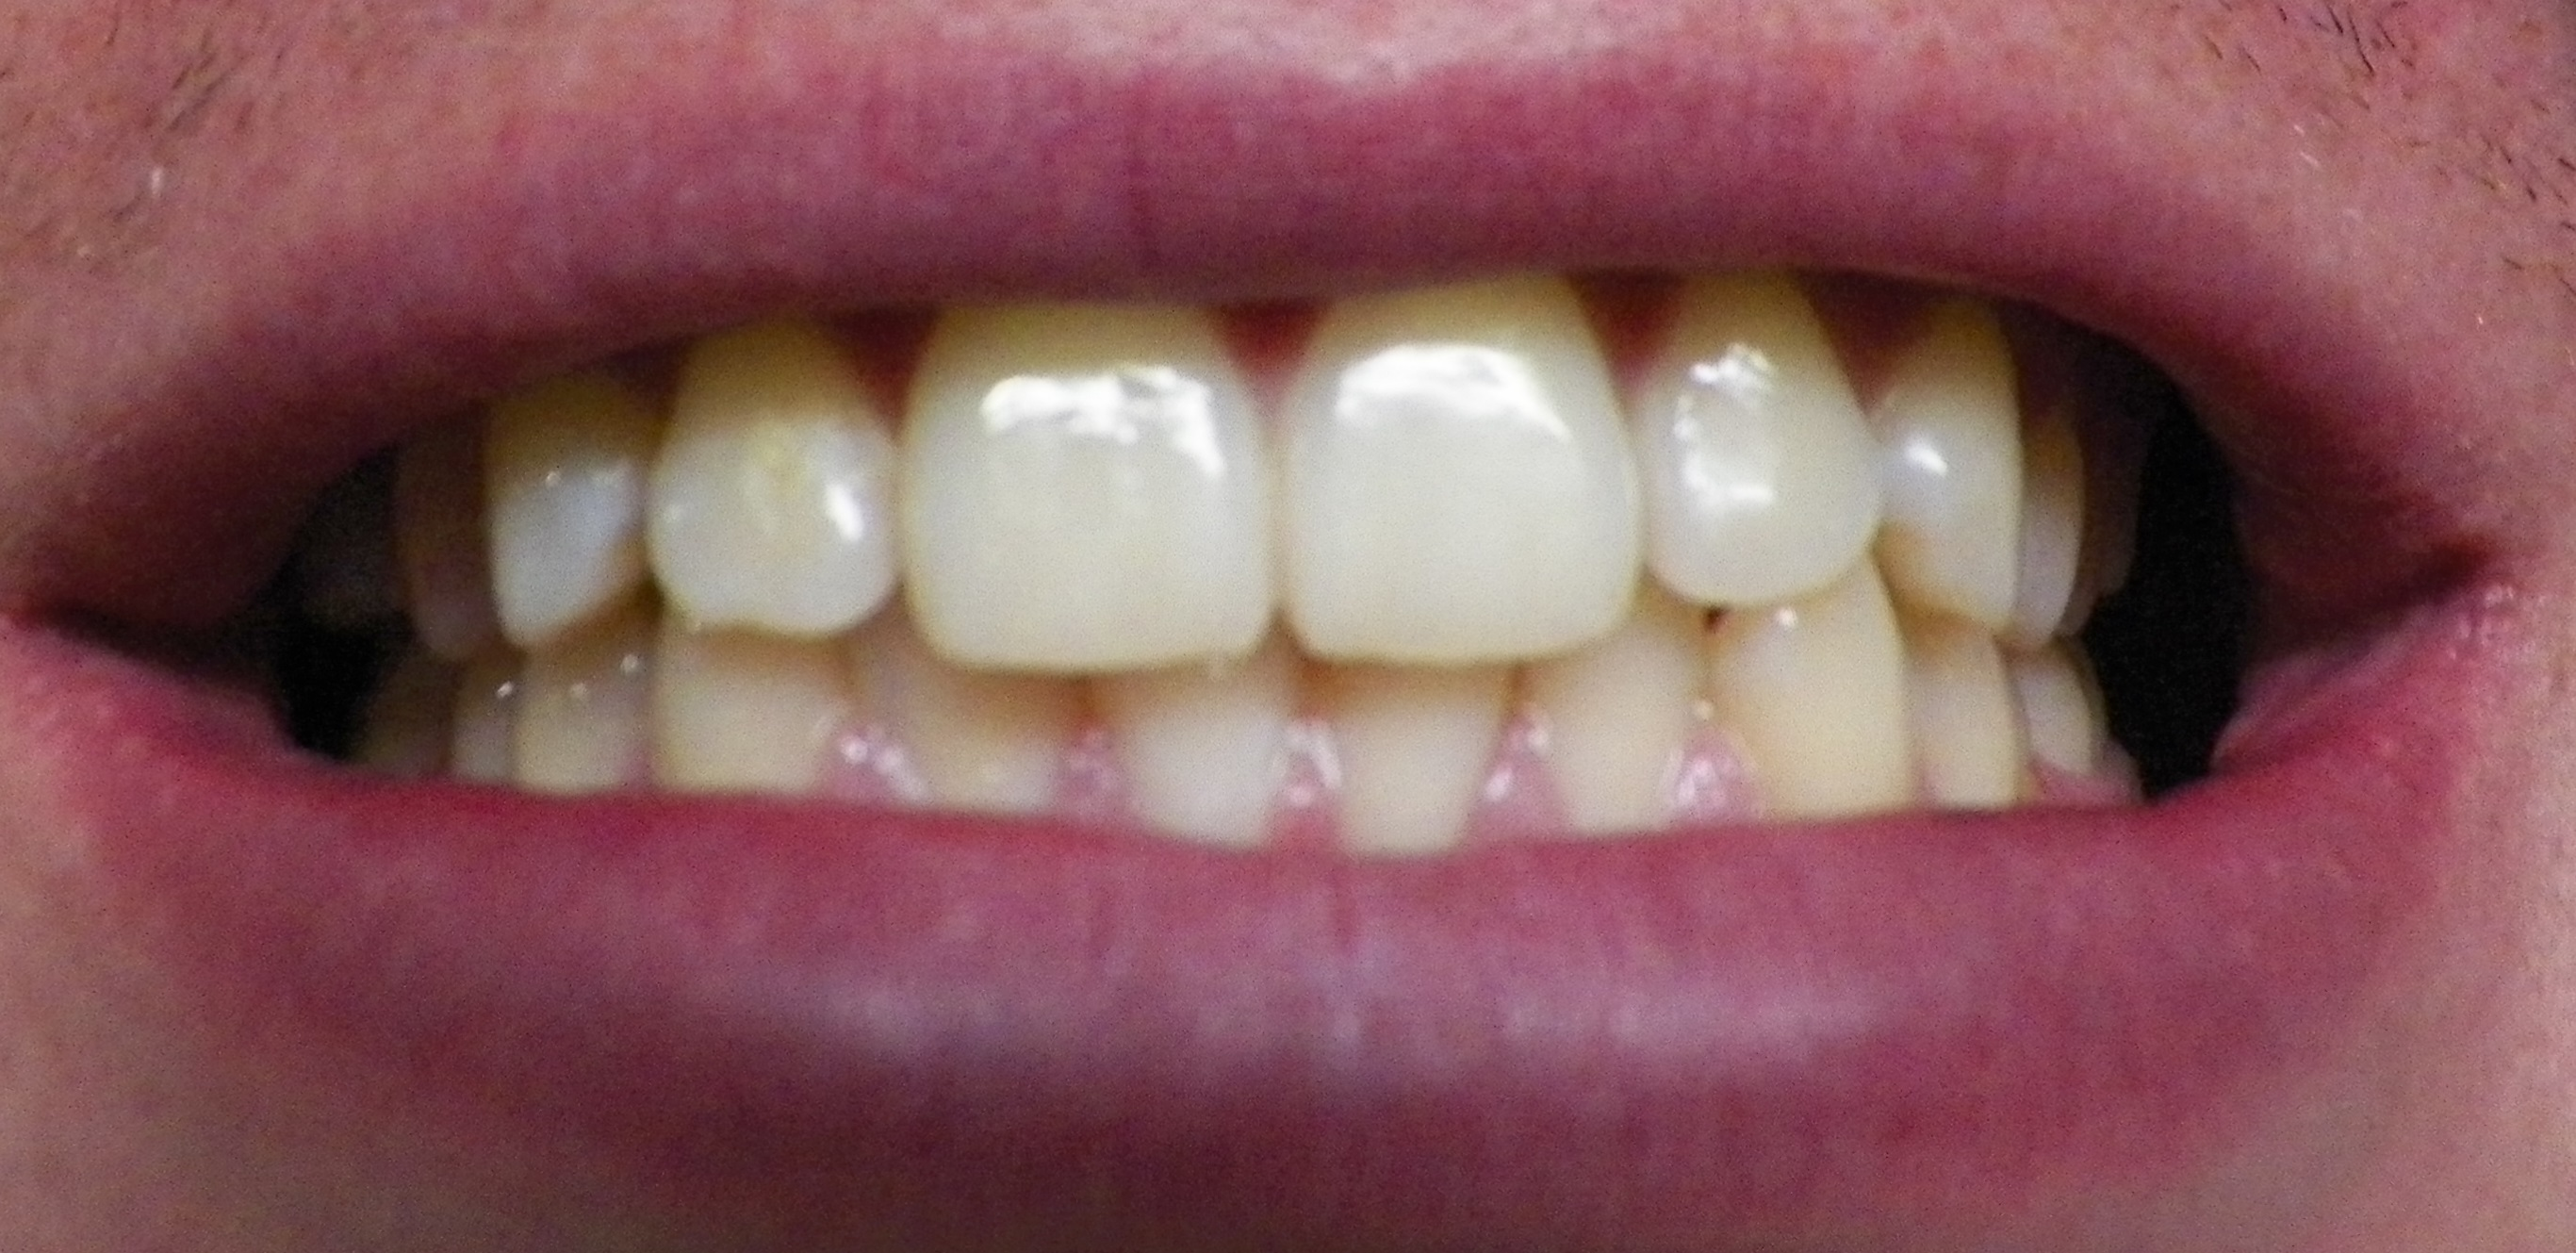boca: (402, 293, 2109, 812)
